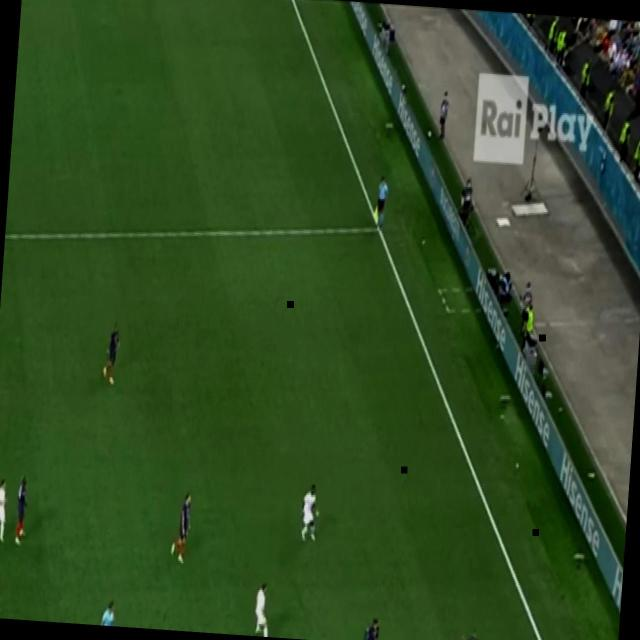ball: (427, 128, 433, 140)
player-white: (169, 492, 195, 568), (100, 319, 123, 389), (298, 480, 322, 546), (12, 472, 31, 550), (252, 580, 276, 638), (374, 175, 390, 233), (0, 477, 12, 545), (97, 597, 117, 626), (358, 615, 381, 640), (464, 624, 491, 640), (447, 631, 472, 640)
